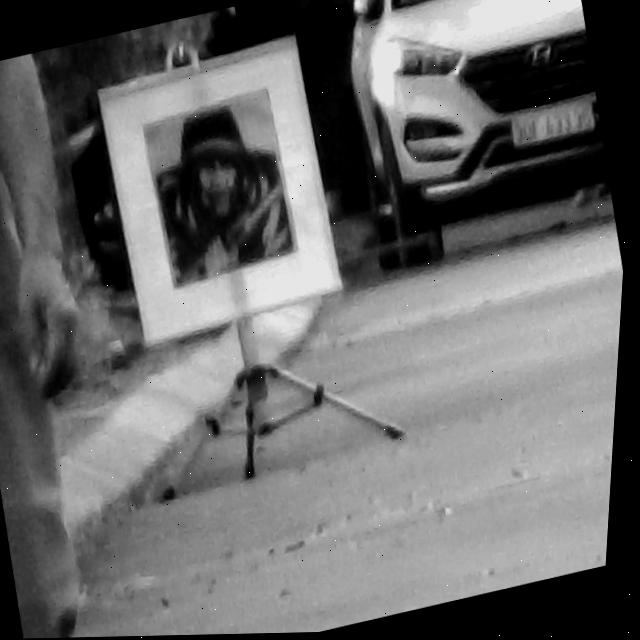bia: (142, 86, 302, 288)
